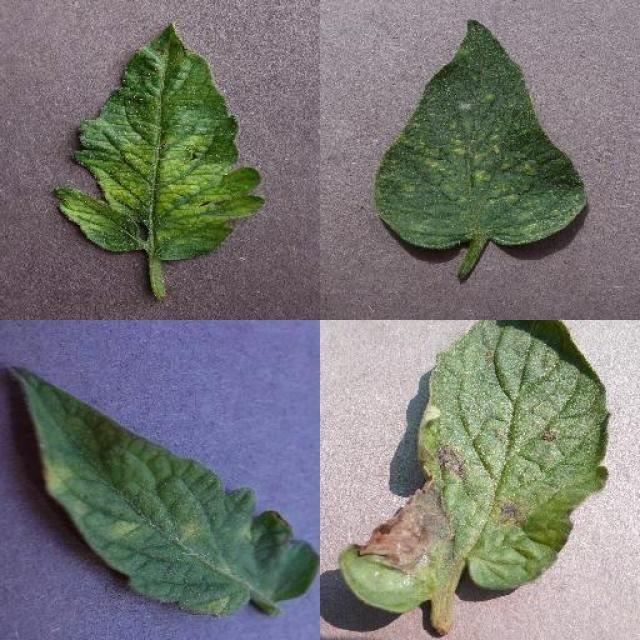Late Blight: (338, 320, 610, 616)
